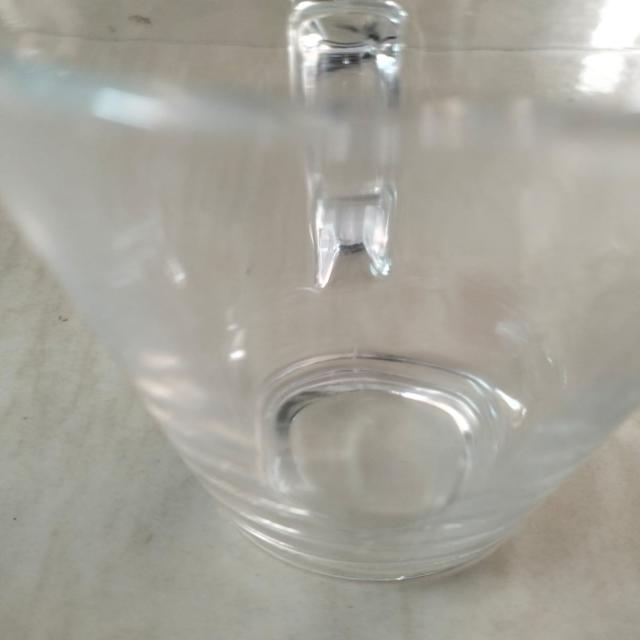glass-VX4N: (0, 3, 640, 559)
